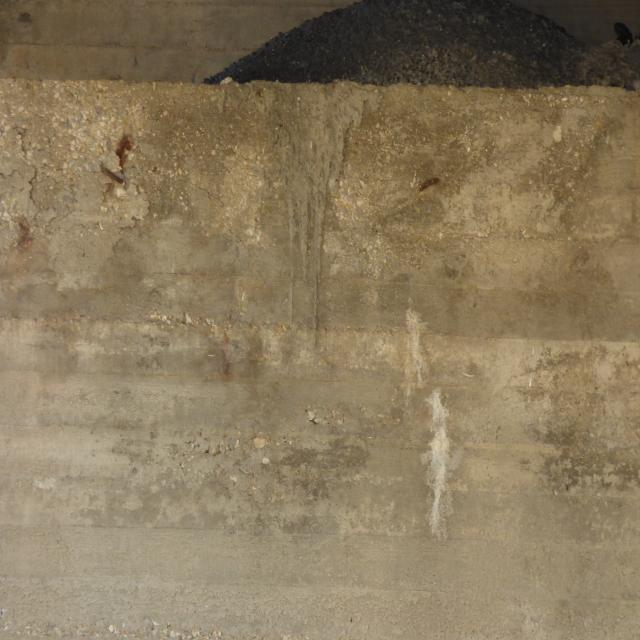corrosion: (98, 124, 137, 201), (412, 166, 454, 202)
